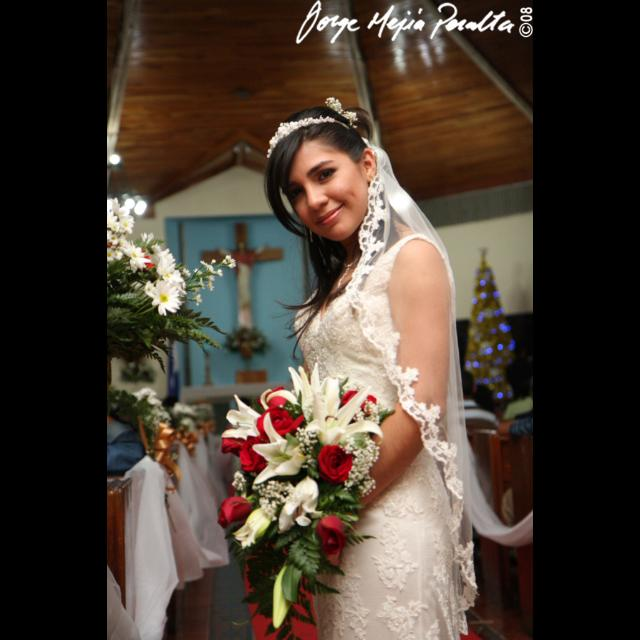Flower: (215, 365, 392, 631), (107, 194, 241, 320), (326, 97, 359, 125), (134, 386, 164, 406)
